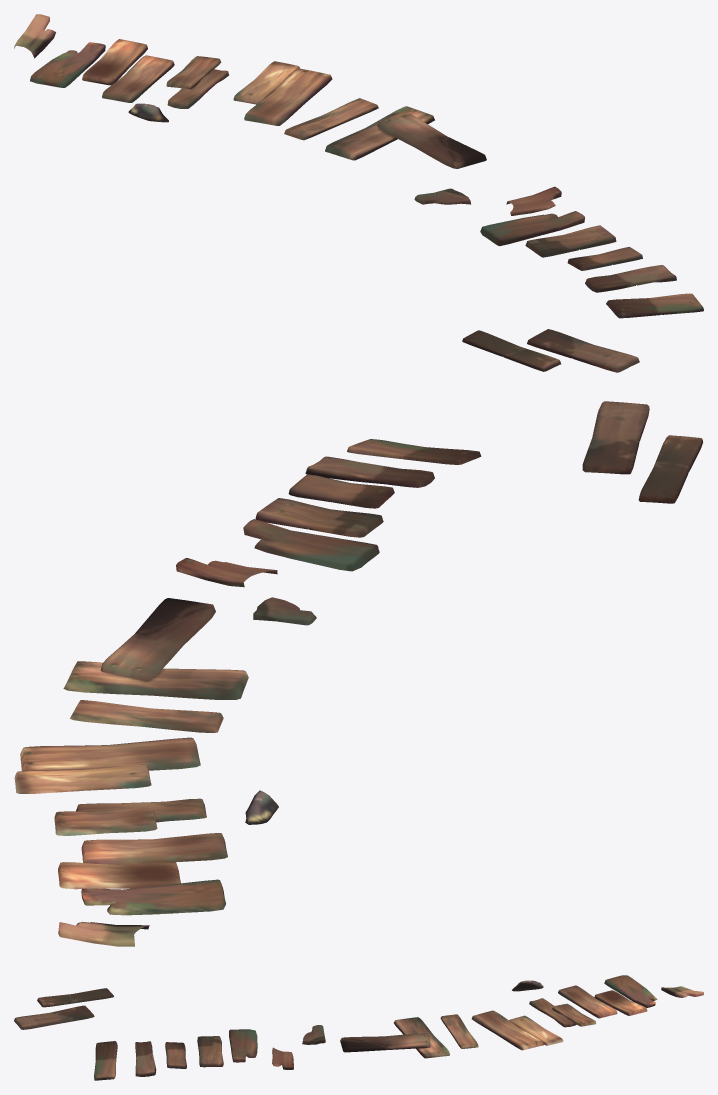
Rendered from Beach_Other.glb.
The picture shows the model from 3 angles, top to bottom: view 1: azimuth 30°, elevation 25°; view 2: azimuth 150°, elevation 25°; view 3: azimuth 270°, elevation 25°; orthographic projection. The views are drawn at different scales.
Visible parts, largest first — view 1: Object_2.011; view 2: Object_2.011; view 3: Object_2.011.
Boxes of the visible parts, x1=… form: Object_2.011: x1=14, y1=14, x2=703, y2=372; Object_2.011: x1=14, y1=401, x2=703, y2=946; Object_2.011: x1=14, y1=975, x2=703, y2=1080.
Size of the model in its own units: 23.63 by 2.44 by 72.24.
Materials: 1 (1 with a texture image).
